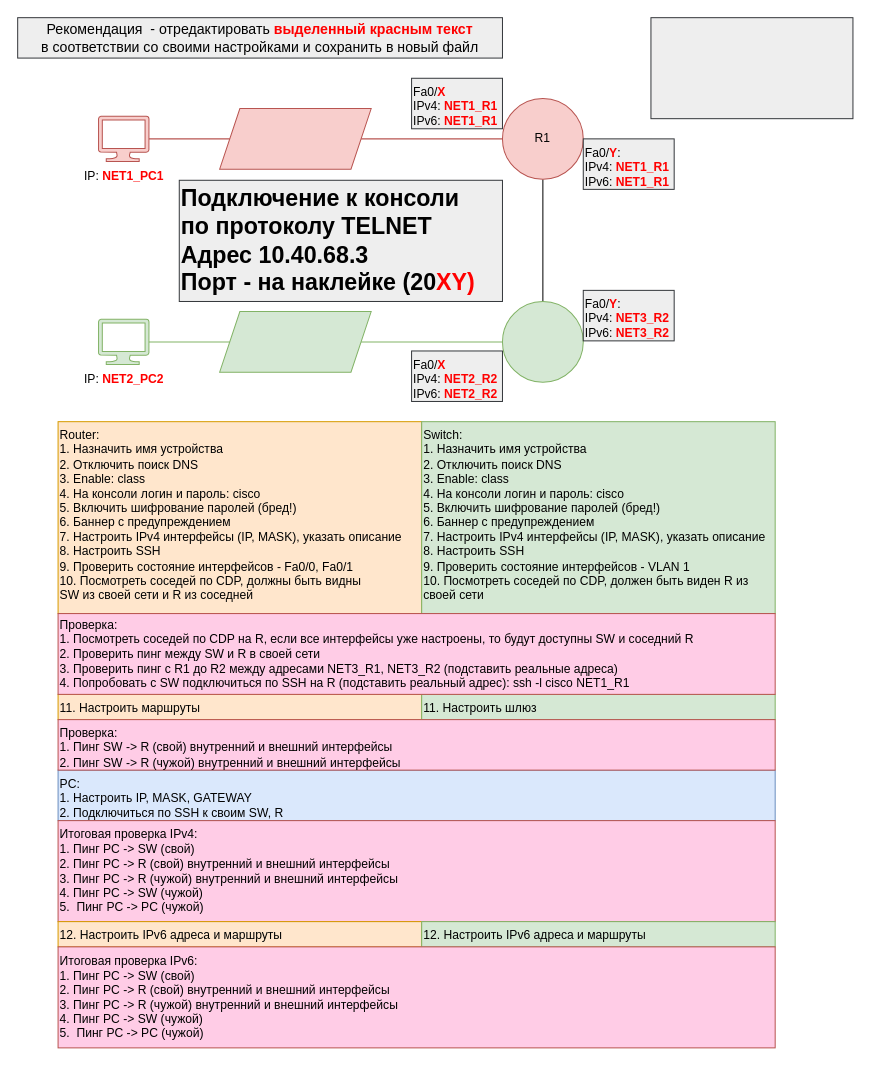
Some shapes in this 871 by 1066 pixel diagram are drawn without their labels. The shapes that lost their labels are listed below. From the top down, each one's centre as x and y in pixels, then its label:
At point 751,68: "ENABLE: class LOGIN: cisco PASS: cisco".
At point 295,138: "SW1 VLAN 1: NET1_SW1".
At point 295,341: "SW2 VLAN 1: NET2_SW2".
At point 542,341: "R2".
